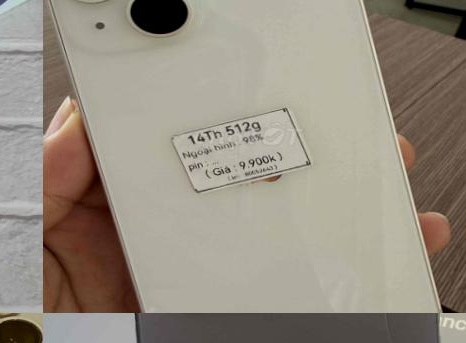physical_damage: (373, 313, 409, 343)
